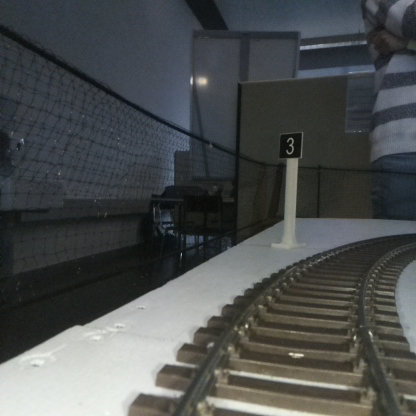black-info-3: (280, 133, 301, 246)
